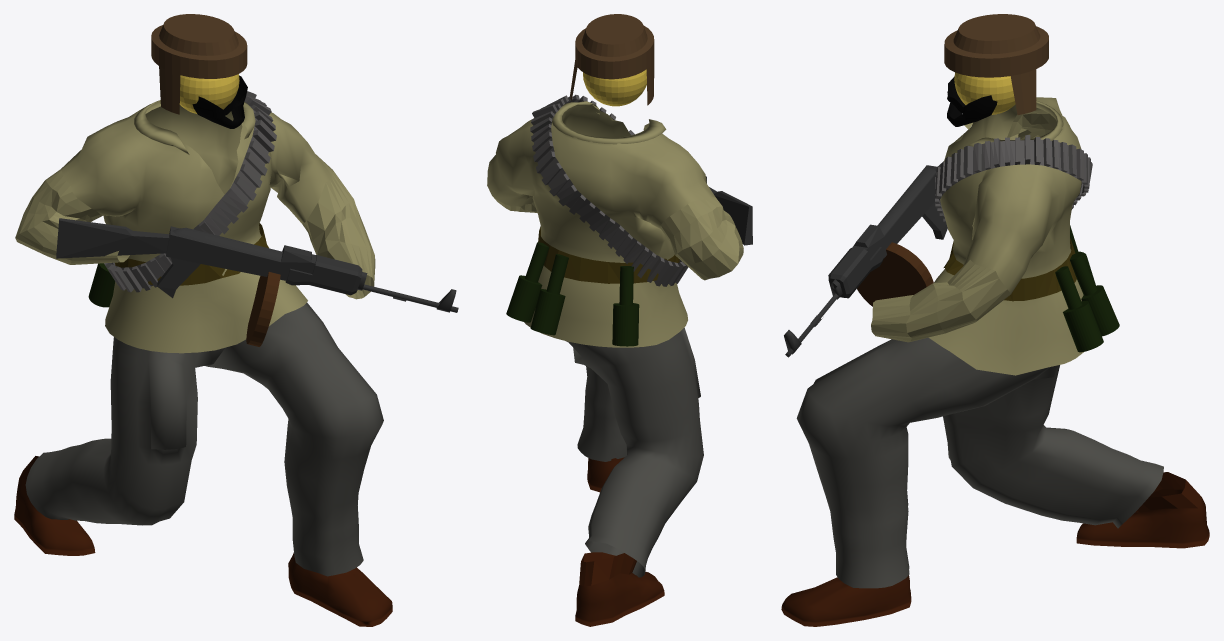
File: Partisan.dae
3 renders of one model, left to right at view 1: azimuth 30°, elevation 25°; view 2: azimuth 150°, elevation 25°; view 3: azimuth 270°, elevation 25°, orthographic. The views are drawn at different scales.
Parts seen in each view (by area): view 1: pants, jacket, AK, hat, bullet_belt, shoe_left, shoe_right, Sphere, Cylinder, beard, belt, granade_002; view 2: jacket, pants, bullet_belt, hat, shoe_right, belt, granade_002, granade_001, granade, Sphere, AK, shoe_left; view 3: pants, jacket, hat, shoe_right, AK, bullet_belt, shoe_left, Cylinder, granade, Sphere, granade_001, belt (+1 smaller).
Part boxes in pixels (x1,y1,x2,y2): pants: (25,302,383,576); jacket: (15,100,375,353); AK: (56,218,458,312); hat: (151,14,247,114); bullet_belt: (104,91,276,292); shoe_left: (288,552,392,626); shoe_right: (14,456,95,555); Sphere: (179,74,239,113); Cylinder: (246,272,280,346); beard: (192,75,247,128); belt: (115,223,268,285); granade_002: (88,263,115,307); jacket: (487,101,743,347); pants: (566,327,703,577); bullet_belt: (530,94,688,286); hat: (570,14,654,105); shoe_right: (575,552,664,626); belt: (538,226,679,283); granade_002: (612,266,639,346); granade_001: (530,254,568,335); granade: (506,242,548,322); Sphere: (583,69,646,106); AK: (706,176,752,245); shoe_left: (587,457,624,492); pants: (796,337,1163,588); jacket: (871,97,1084,375); hat: (944,14,1048,114); shoe_right: (1076,472,1209,548); AK: (784,161,947,357); bullet_belt: (935,135,1092,227); shoe_left: (781,575,911,626); Cylinder: (857,242,933,306); granade: (1055,266,1103,352); Sphere: (954,72,1015,114); granade_001: (1070,252,1119,336); belt: (943,238,1076,301).
Bounding box in the file's own units: 1.18 × 1.37 × 1.93.
